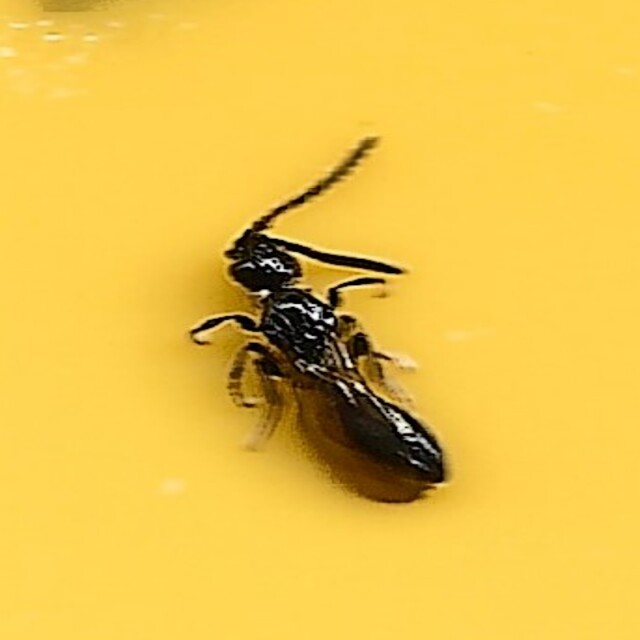Hymenoptera: (187, 133, 453, 507)
